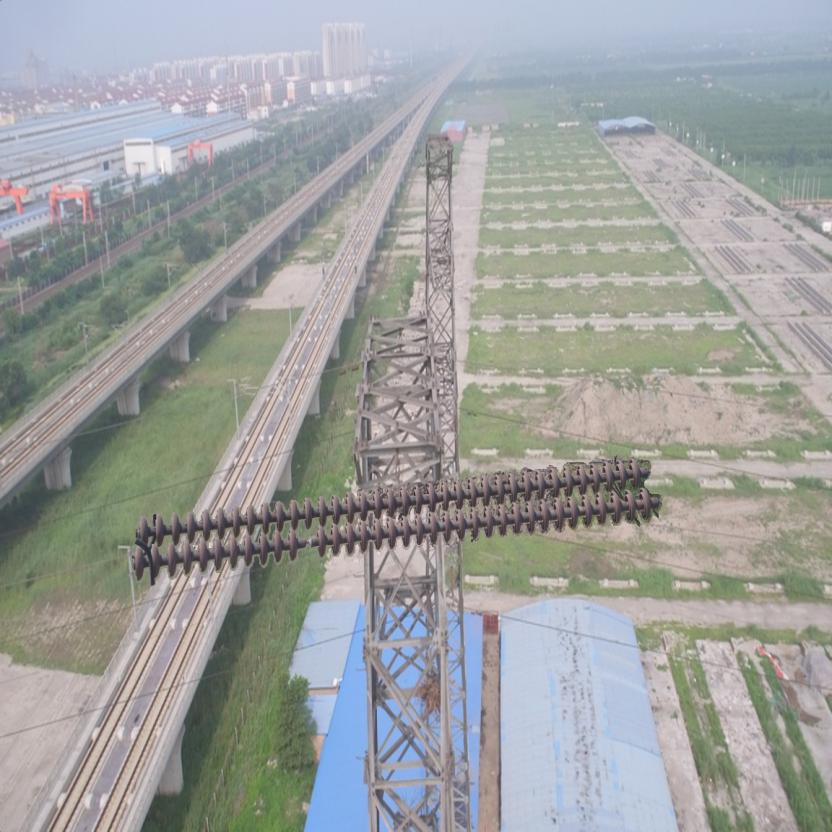defect: (283, 524, 332, 562)
